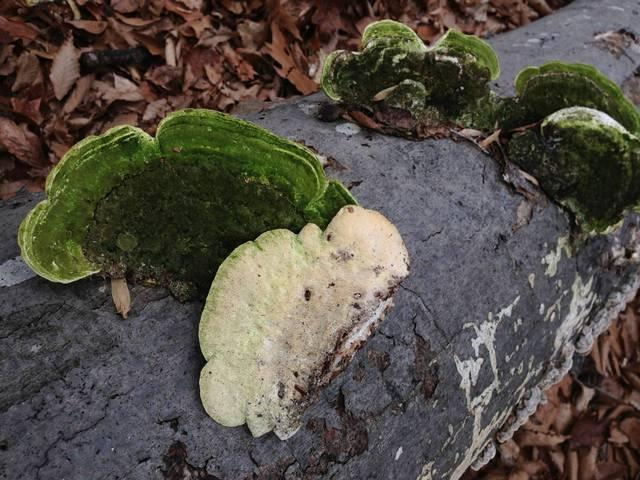Non-edible Mushroom: (21, 94, 380, 291), (309, 13, 640, 211), (196, 202, 411, 440)
